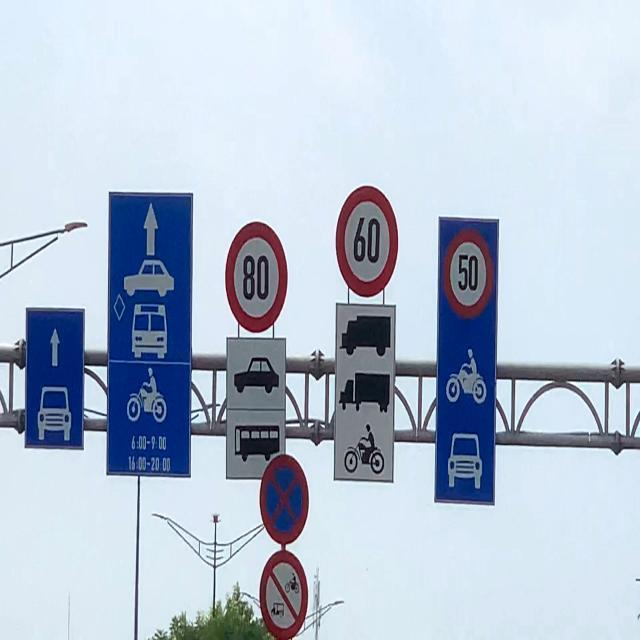127-toc-do-toi-da-50: (441, 228, 494, 318)
127-toc-do-toi-da-60: (333, 182, 401, 298)
127-toc-do-toi-da-80: (224, 219, 292, 333)
130-cam-dung-va-do-xe: (258, 452, 308, 544)
